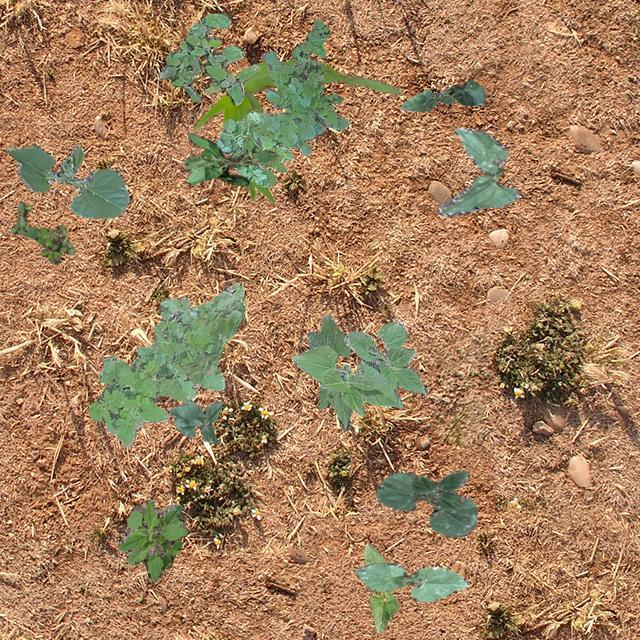crop: (192, 58, 402, 202), (290, 320, 426, 414), (7, 142, 128, 218), (436, 127, 518, 216), (376, 469, 476, 536), (306, 314, 351, 429), (354, 562, 468, 602), (362, 542, 398, 632), (400, 80, 484, 112), (168, 399, 222, 444)
weed: (87, 282, 245, 446), (215, 18, 348, 186), (158, 12, 258, 104), (118, 498, 188, 580), (182, 132, 276, 184), (10, 200, 74, 264)
